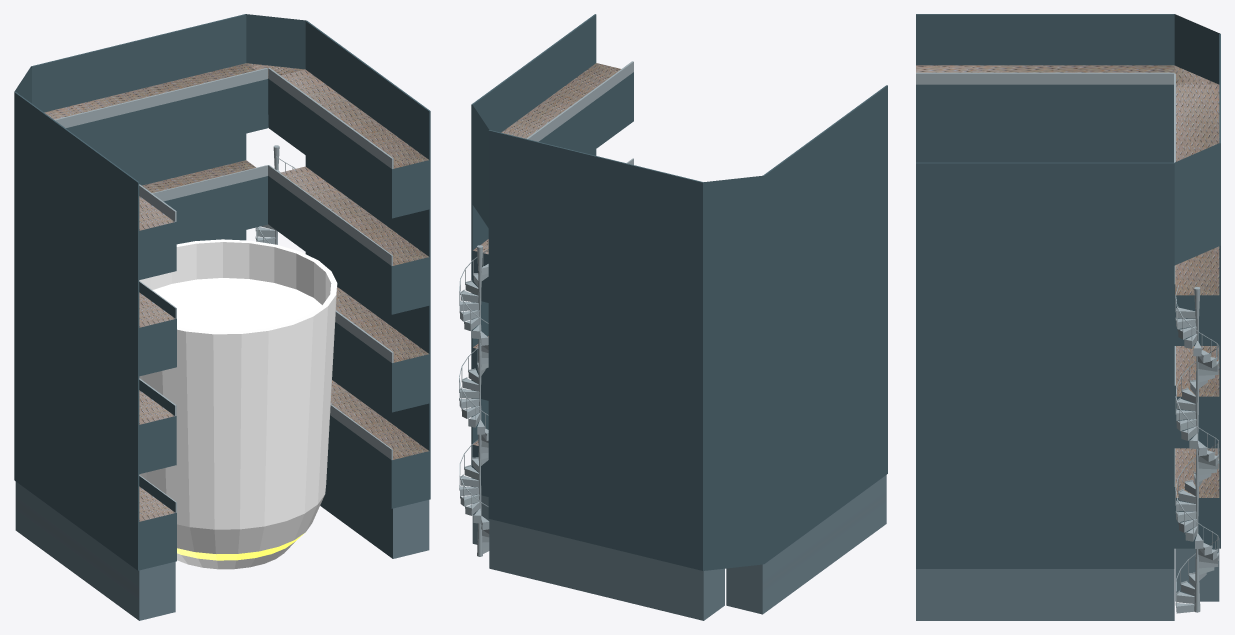
Rendered from metalstructure.glb.
3 renders of one model, left to right at view 1: azimuth 30°, elevation 25°; view 2: azimuth 150°, elevation 25°; view 3: azimuth 270°, elevation 25°, orthographic. The views are drawn at different scales.
Parts seen in each view (by area): view 1: Cube, Cylinder; view 2: Cube, spiralstaircase; view 3: Cube, spiralstaircase.
Boxes of the visible parts, x1,y1,x2,y2 form: Cube: [14, 14, 430, 620]; Cylinder: [139, 239, 337, 569]; Cube: [471, 14, 887, 620]; spiralstaircase: [459, 245, 489, 556]; Cube: [916, 14, 1220, 620]; spiralstaircase: [1175, 285, 1219, 613].
Size of what is drawn, in the model's own units: 24.05 by 34.44 by 20.76.
3 materials, 2 textured.
